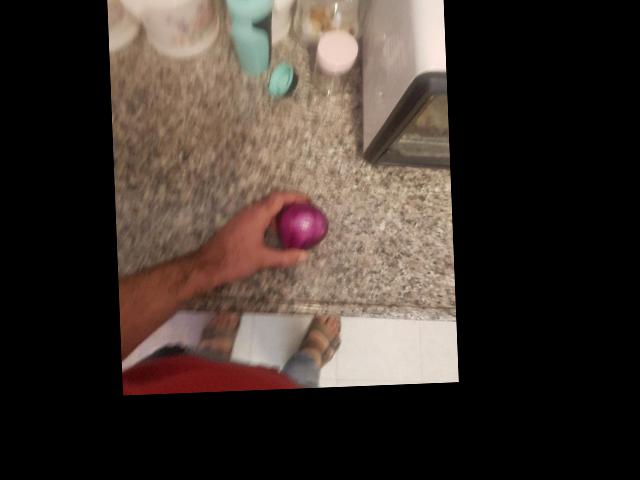onion: (372, 62, 438, 123)
